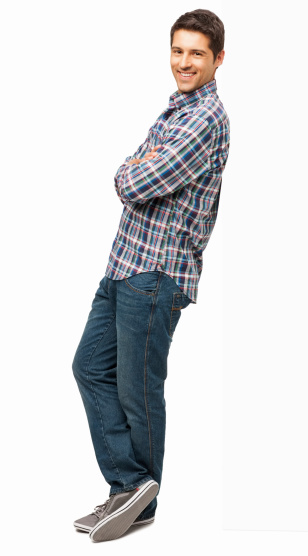em pe: (82, 0, 245, 520)
